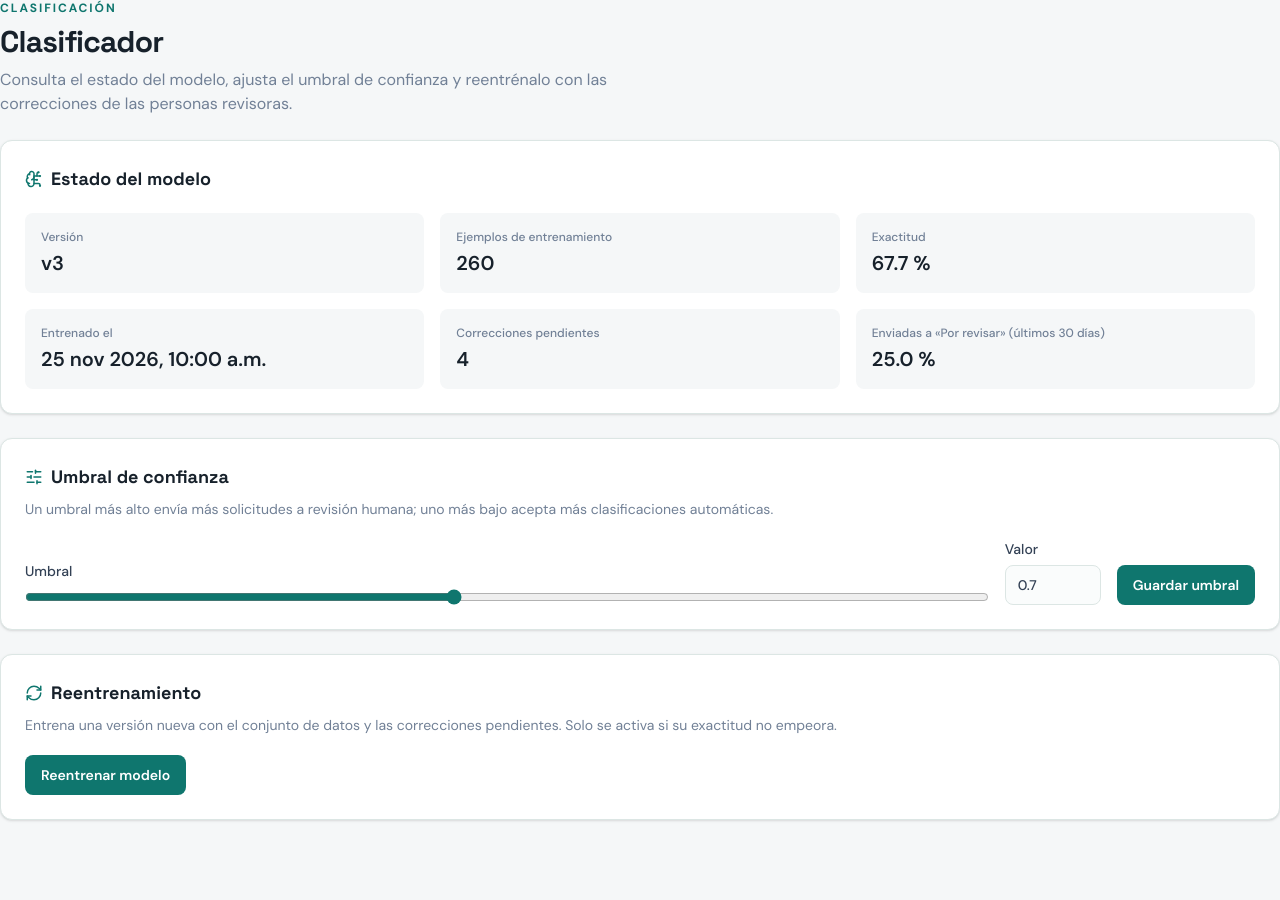
Scenario: ClasificadorPage (S5-12, HU-02.2, HU-12.1, HU-12.2) › cancelar la confirmación no reentrena
The width and height of the screenshot is (1280, 900).
What coordinates should you click on to do the following:
click the button "Reentrenar modelo"
I would click on:
 (106, 775)
Its box is [25,755,186,795].
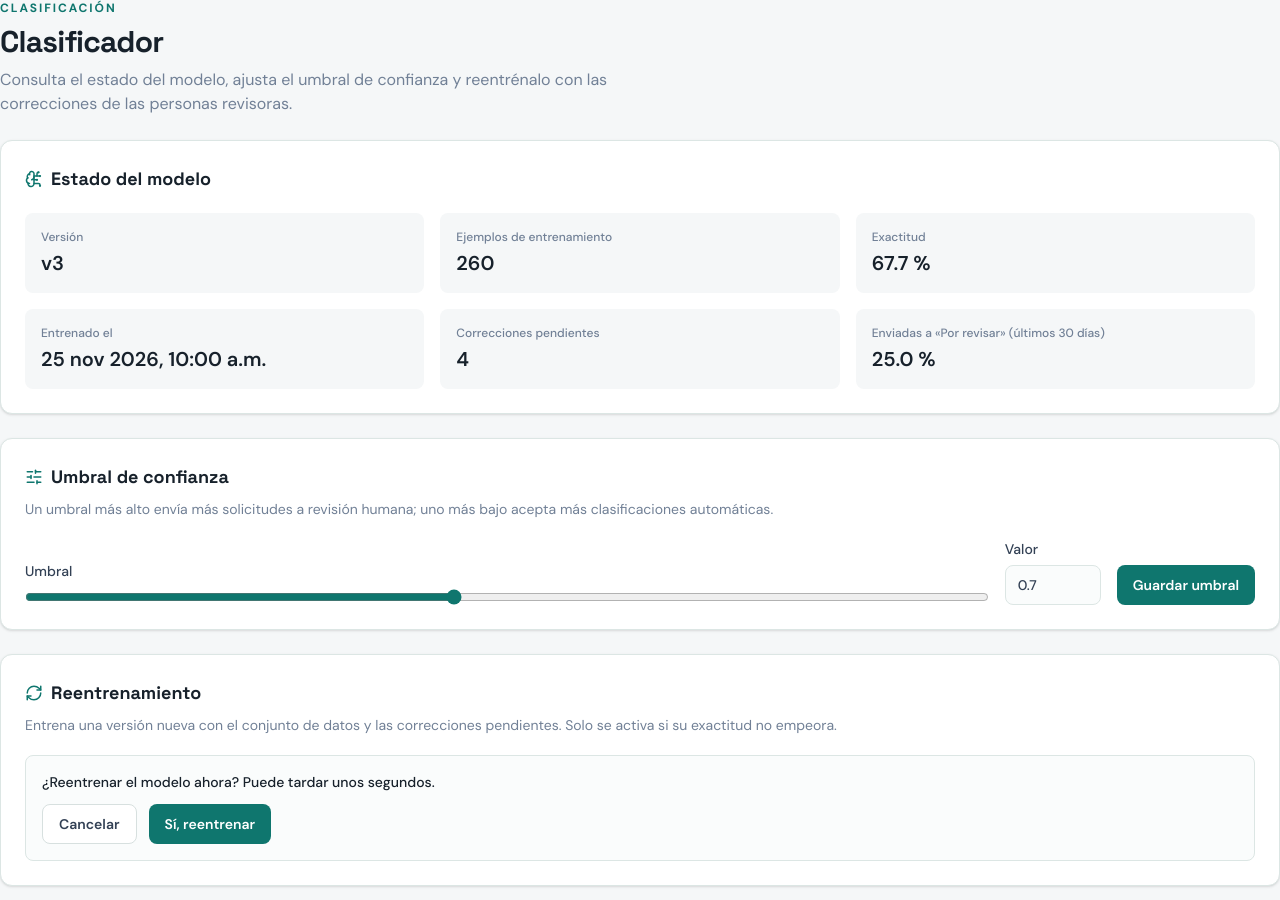
What coordinates should you click on to do the following:
click the button "Cancelar"
I would click on:
 (89, 824)
Its box is [42,804,136,844].
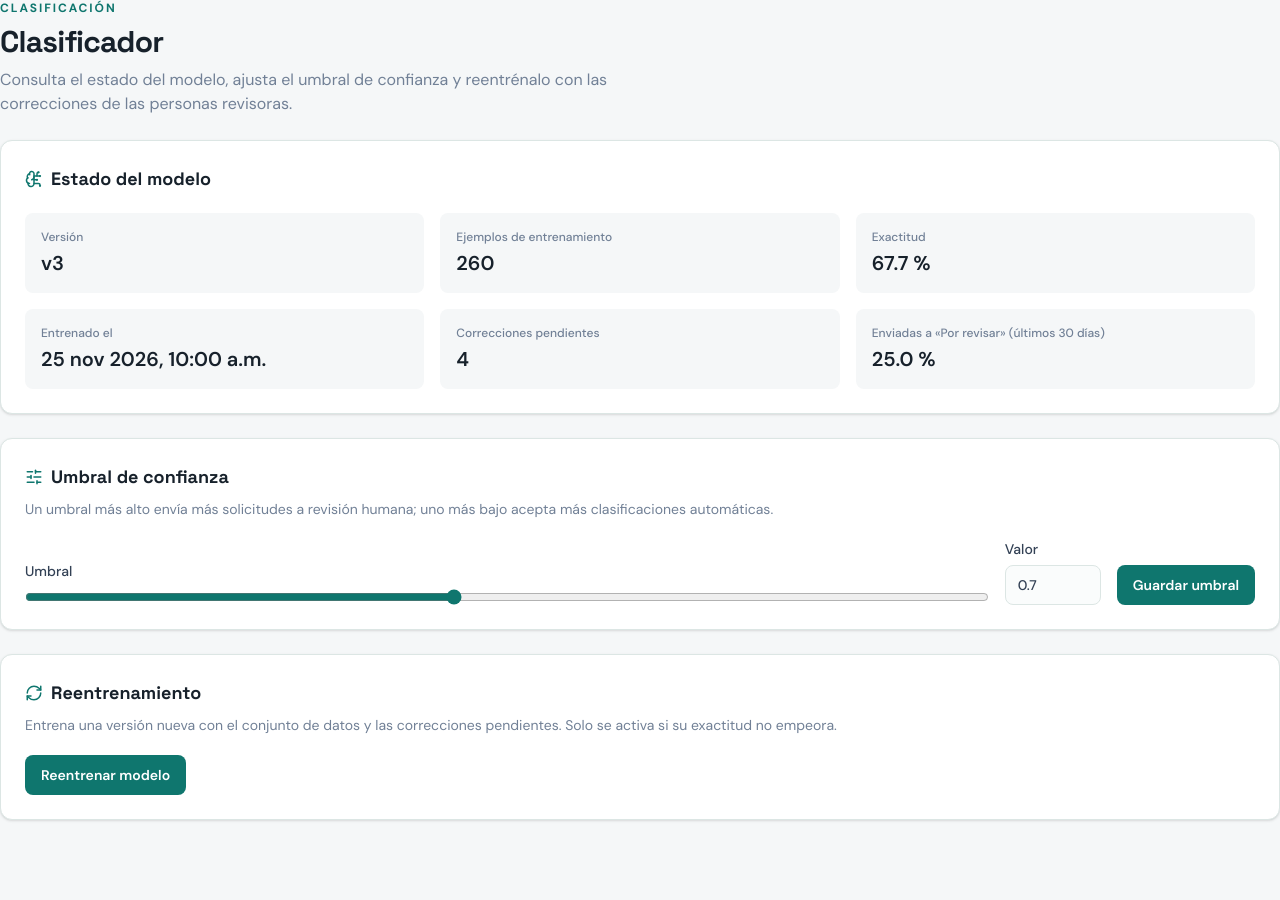
Now the dialog is gone
